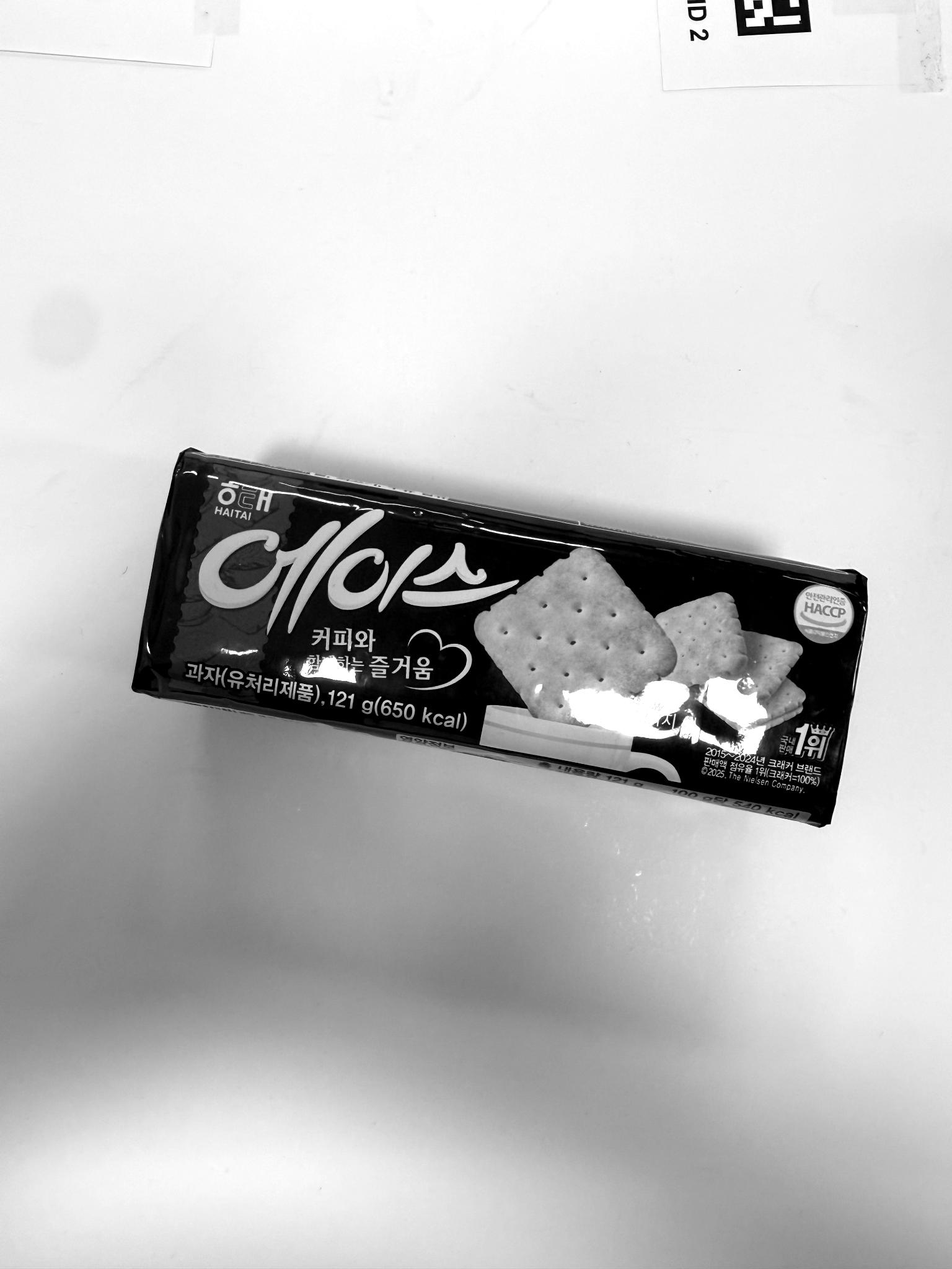cracker_ace: (132, 449, 867, 826)
